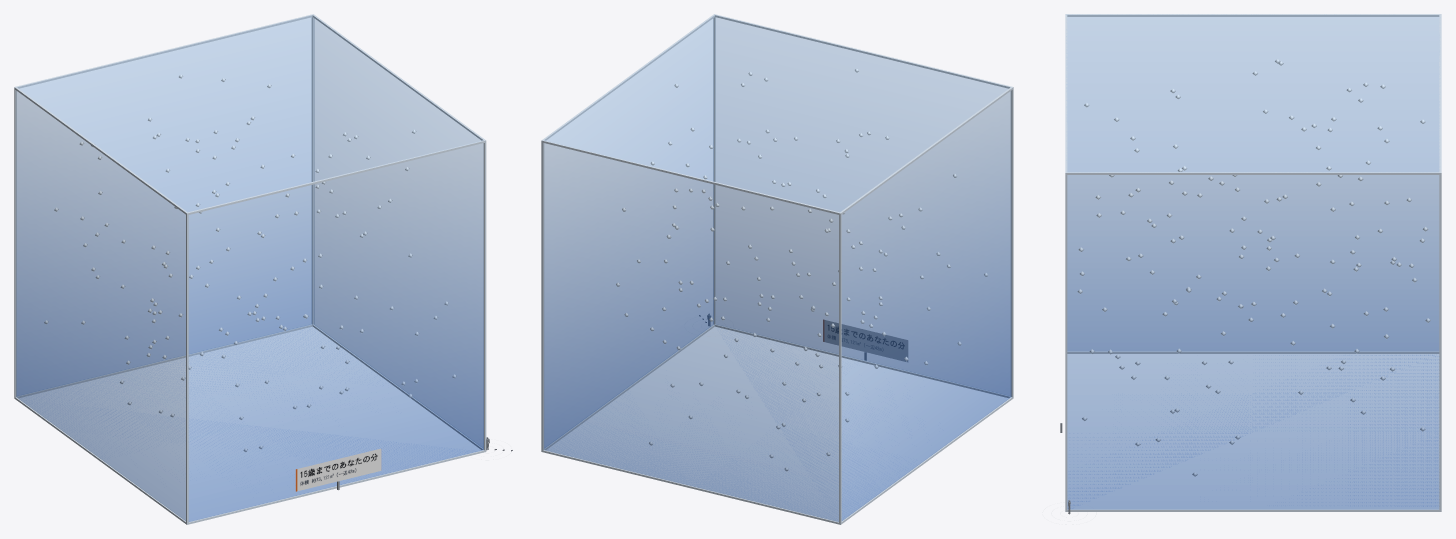
The model's file is cube_life_15.glb.
The picture shows the model from 3 angles, left to right: view 1: azimuth 30°, elevation 25°; view 2: azimuth 150°, elevation 25°; view 3: azimuth 270°, elevation 25°; orthographic projection. The views are drawn at different scales.
Visible parts, largest first — view 1: co2, edge, dots, label; view 2: co2, edge, dots, label; view 3: co2, edge, dots.
Part boxes in pixels (x1=…): co2: x1=16, y1=15, x2=483, y2=521; edge: x1=14, y1=14, x2=486, y2=524; dots: x1=44, y1=74, x2=456, y2=452; label: x1=295, y1=448, x2=381, y2=491; co2: x1=544, y1=15, x2=1011, y2=521; edge: x1=541, y1=14, x2=1013, y2=524; dots: x1=616, y1=68, x2=987, y2=471; label: x1=823, y1=319, x2=907, y2=361; co2: x1=1066, y1=15, x2=1439, y2=509; edge: x1=1065, y1=14, x2=1441, y2=511; dots: x1=1077, y1=59, x2=1430, y2=476.
Bounding box in the file's own units: 45.51 × 41.82 × 44.61.
8 materials, 3 textured.
